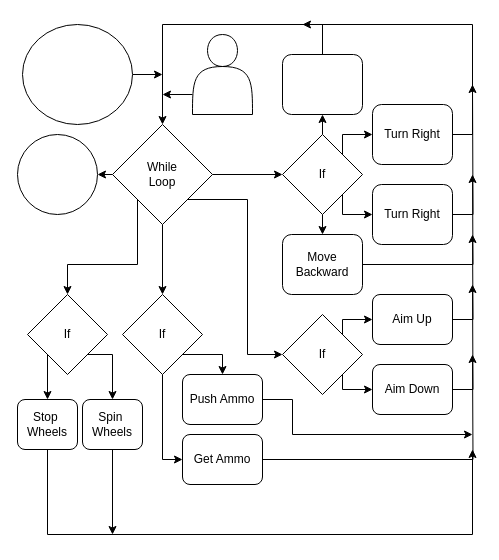
Image size: 499x560. Some labels were removed from this diagram. Here are the shapes that lost their labels. From the top down, the centre of each, then its label:
At (x=77, y=74): "START VEX PROGRAM".
At (x=222, y=74): "User".
At (x=322, y=84): "Move Forward".
At (x=57, y=174): "STOP PROGRAM".
